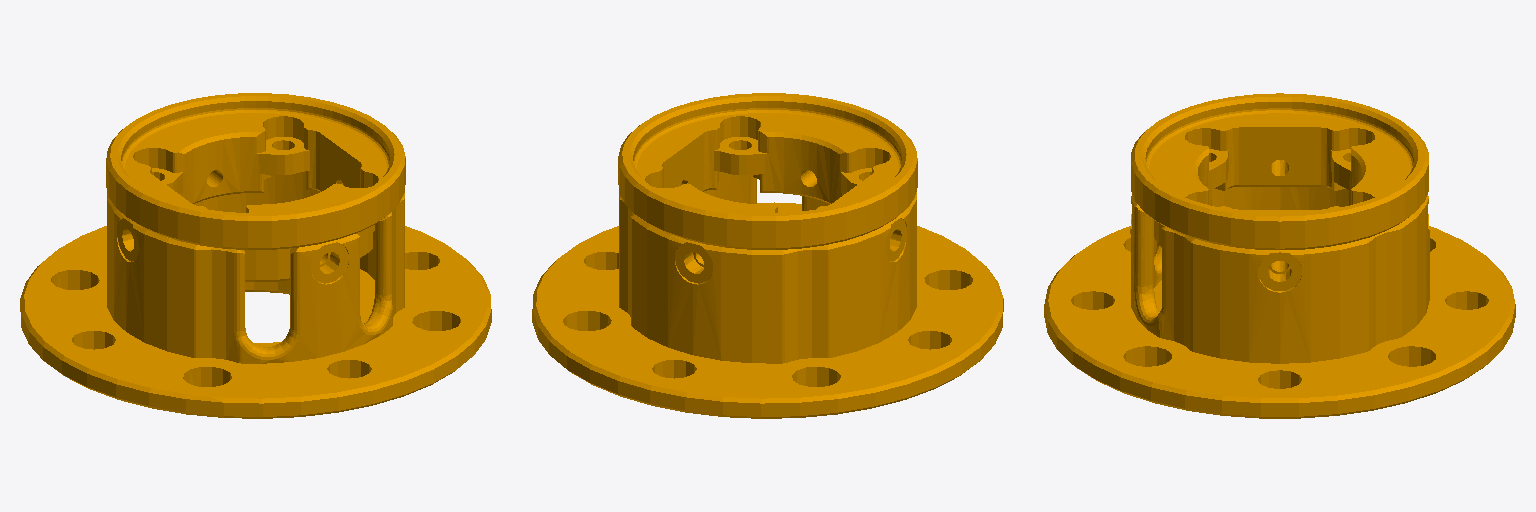
URDF robot description (ar5_08_o6):
<?xml version="1.0"?>
<!-- Written by tools/assemble.py from ar5_08_o6.xml: the same robot. Edit the MJCF, not this file. -->
<robot name="ar5_08_o6">
  <link name="flange_link">
    <inertial><origin xyz="-2.094819953e-07 0.0005163045622 0.008988416295" rpy="-1.568063355 -1.558604283 -1.571413769"/><mass value="0.044499999"/><inertia ixx="1.829285394e-05" ixy="0" ixz="0" iyy="1.212456566e-05" iyz="0" izz="1.202231123e-05"/></inertial>
    <visual><origin xyz="0 0 0" rpy="0 0 0"/><geometry><mesh filename="meshes/visual/flange_link_vis.obj"/></geometry></visual>
    <collision><origin xyz="0 0 0" rpy="0 0 0"/><geometry><mesh filename="meshes/collision/flange_link_col.obj"/></geometry></collision>
  </link>
  <link name="hand_mount">
    <inertial><origin xyz="0 0 0" rpy="0 0 0"/><mass value="1e-09"/><inertia ixx="1e-06" ixy="0" ixz="0" iyy="1e-06" iyz="0" izz="1e-06"/></inertial>
  </link>
  <joint name="hand_mount_fixed" type="fixed"><parent link="flange_link"/><child link="hand_mount"/><origin xyz="0 0 0.0225" rpy="0 0 0"/></joint>
</robot>

--- Render facts (derived) ---
The picture shows the robot from 3 angles, left to right: view 1: azimuth 30°, elevation 25°; view 2: azimuth 150°, elevation 25°; view 3: azimuth 270°, elevation 25°; orthographic projection.
Model ar5_08_o6 with 2 links and 1 joints (1 fixed), rooted at flange_link, posed every joint at zero.
Visible links, largest first — view 1: flange_link; view 2: flange_link; view 3: flange_link.
Link boxes in pixels (x1=…): flange_link: x1=20, y1=93, x2=491, y2=418; flange_link: x1=532, y1=93, x2=1003, y2=418; flange_link: x1=1044, y1=93, x2=1515, y2=418.
Bounding box of the posed robot: 0.0628 × 0.063 × 0.0265 m (x, y, z).
1 mesh visuals loaded from 1 distinct referenced files (1 OBJ).
